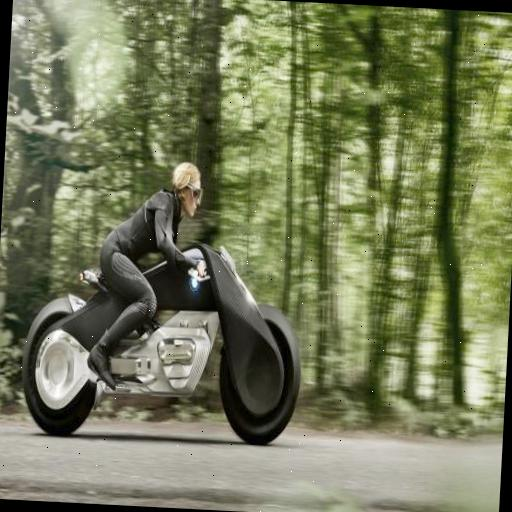no helmet: (19, 118, 316, 459)
